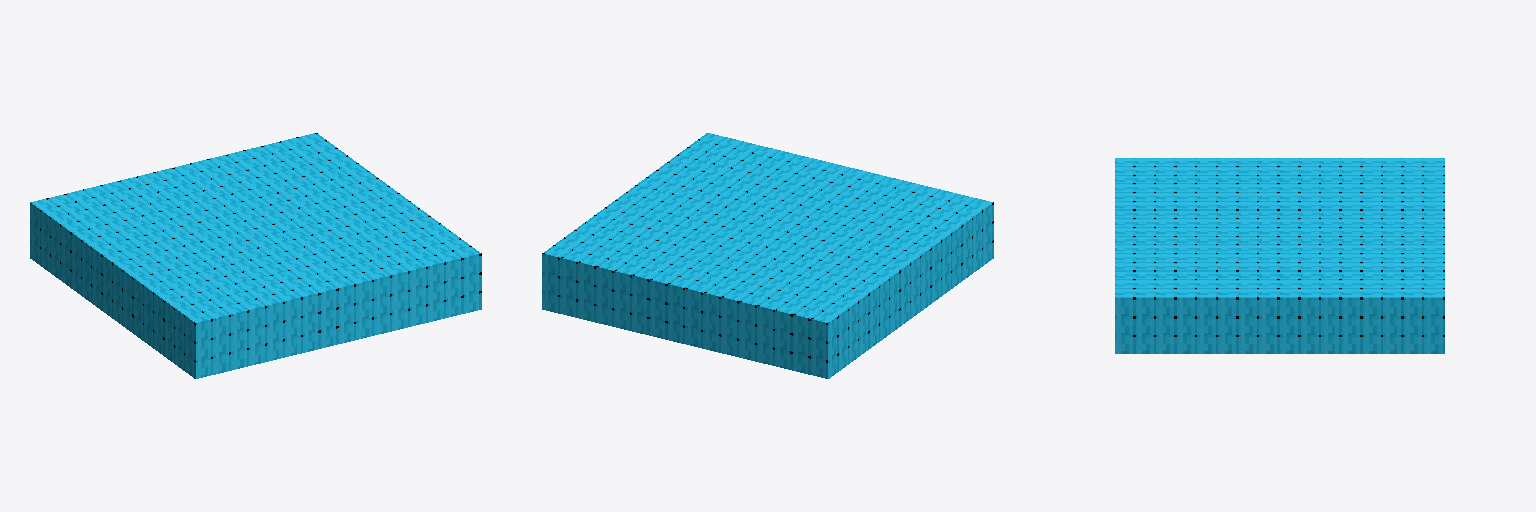
3 renders of one model, left to right at view 1: azimuth 30°, elevation 25°; view 2: azimuth 150°, elevation 25°; view 3: azimuth 270°, elevation 25°, orthographic.
Visible parts, largest first — view 1: blank; view 2: blank; view 3: blank.
Boxes of the visible parts, <box> form: blank: <box>30,133,481,378</box>; blank: <box>542,133,993,378</box>; blank: <box>1115,158,1444,353</box>.
Size of the model in its own units: 16 by 3 by 16.
1 materials, 1 textured.